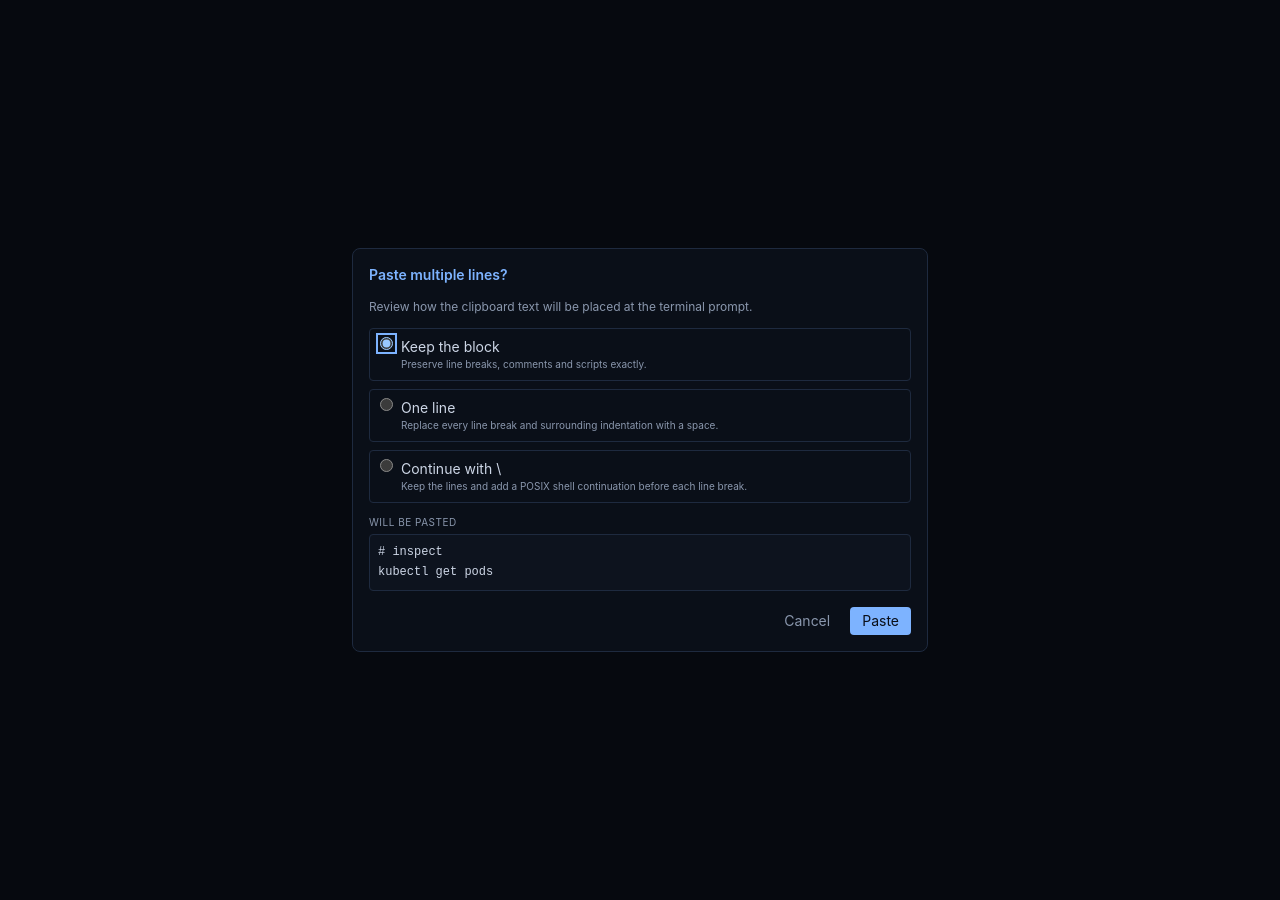
Scenario: TerminalPasteDialog › warns when transforming comments
Click the radio button labelled "One line" at [386, 405], box [380, 398, 393, 411]
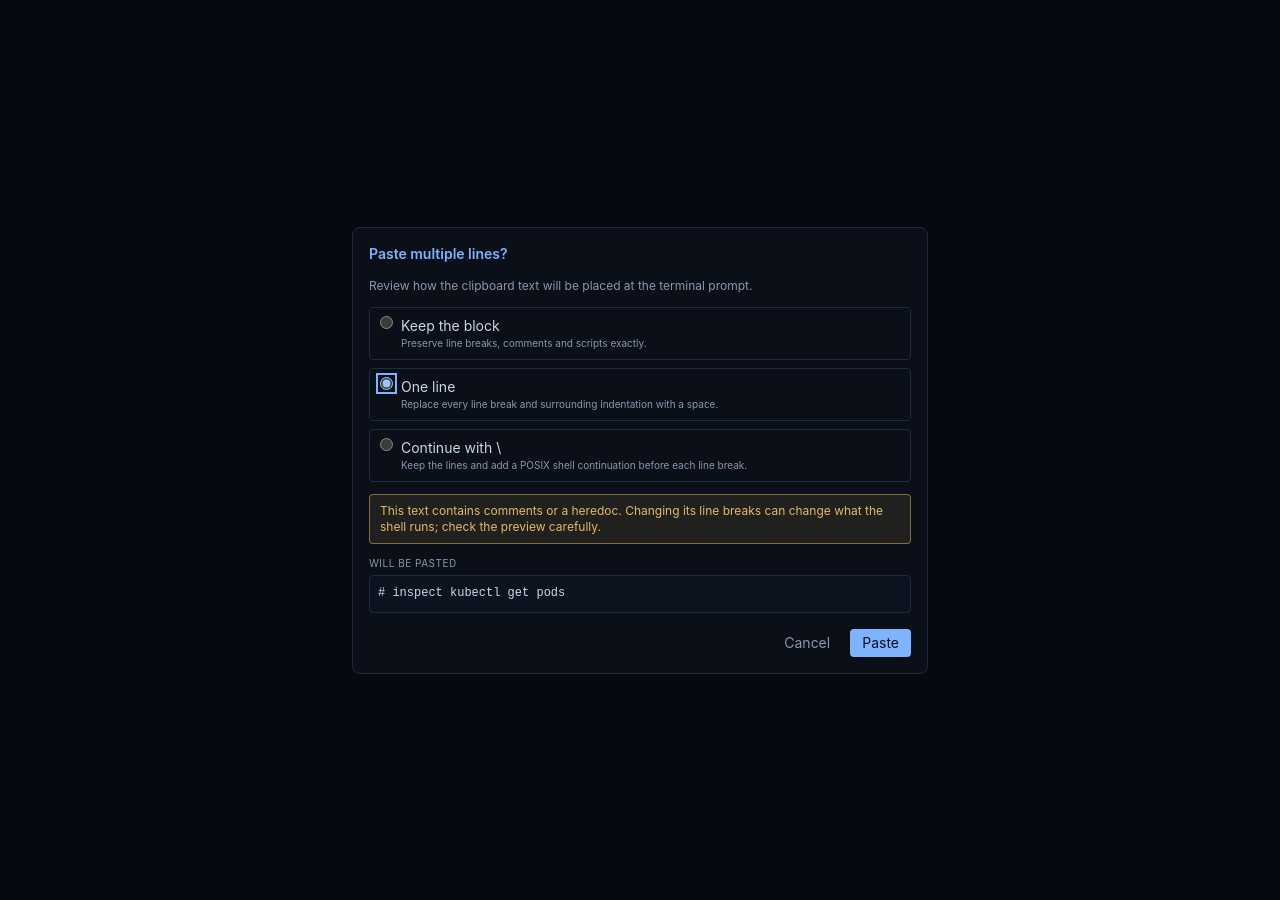
Now the text with test id "paste-risk" is shown, box [369, 494, 911, 544]
